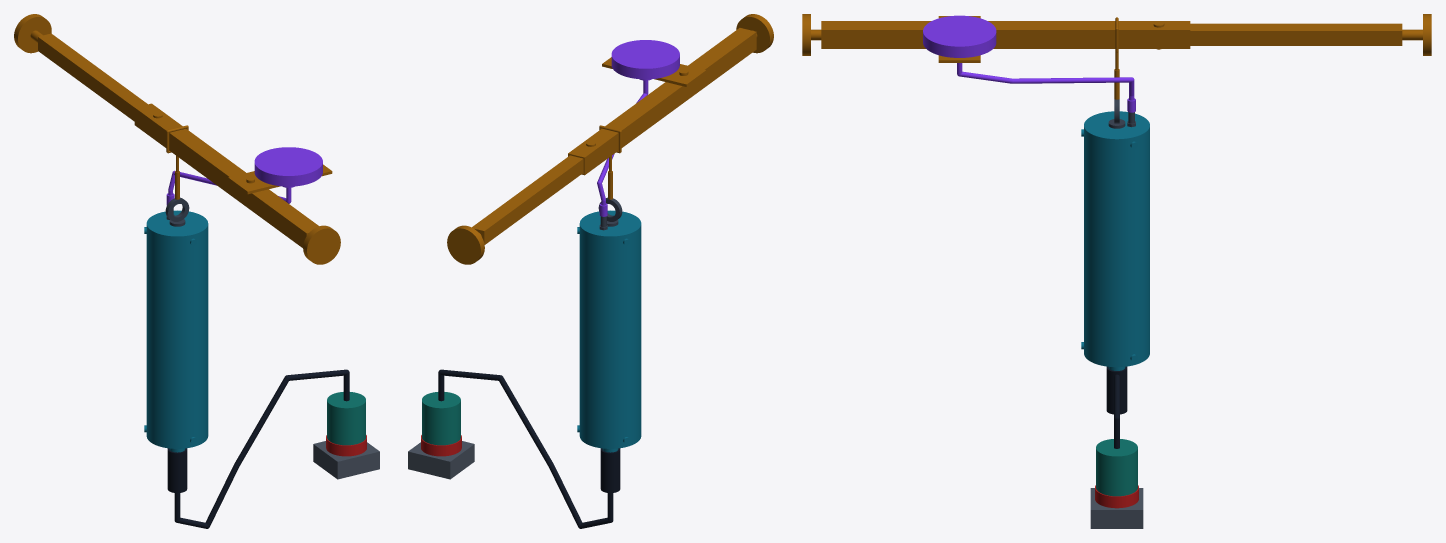
The picture shows the model from 3 angles, left to right: view 1: azimuth 30°, elevation 25°; view 2: azimuth 150°, elevation 25°; view 3: azimuth 270°, elevation 25°; orthographic projection. The views are drawn at different scales.
Parts seen in each view (by area): view 1: Logger housing, IP68, Neck bar hanger and lanyard, Sensor cable, M12 IP68, Flat LoRa antenna, Sensor puck body, potted, Valve spindle cap (existing), Pot magnet, 42 mm, Eye bolt and SMA bulkhead; view 2: Logger housing, IP68, Neck bar hanger and lanyard, Sensor cable, M12 IP68, Flat LoRa antenna, Sensor puck body, potted, Valve spindle cap (existing), Pot magnet, 42 mm; view 3: Logger housing, IP68, Neck bar hanger and lanyard, Flat LoRa antenna, Sensor puck body, potted, Valve spindle cap (existing), Sensor cable, M12 IP68.
Part boxes in pixels (box(x1,y1,x2,y2)): Logger housing, IP68: box(144, 210, 208, 452); Neck bar hanger and lanyard: box(14, 14, 340, 264); Sensor cable, M12 IP68: box(167, 369, 349, 528); Flat LoRa antenna: box(166, 147, 322, 205); Sensor puck body, potted: box(327, 392, 365, 445); Valve spindle cap (existing): box(313, 441, 379, 479); Pot magnet, 42 mm: box(326, 435, 366, 456); Eye bolt and SMA bulkhead: box(165, 197, 189, 226); Logger housing, IP68: box(577, 210, 641, 452); Neck bar hanger and lanyard: box(447, 14, 773, 264); Sensor cable, M12 IP68: box(438, 369, 620, 528); Flat LoRa antenna: box(597, 40, 679, 216); Sensor puck body, potted: box(422, 392, 460, 445); Valve spindle cap (existing): box(408, 441, 474, 479); Pot magnet, 42 mm: box(421, 435, 461, 456); Logger housing, IP68: box(1081, 111, 1149, 370); Neck bar hanger and lanyard: box(802, 14, 1431, 99); Flat LoRa antenna: box(923, 15, 1135, 112); Sensor puck body, potted: box(1096, 439, 1137, 496); Valve spindle cap (existing): box(1090, 488, 1143, 528); Sensor cable, M12 IP68: box(1106, 366, 1127, 448).
Bounding box in the file's own units: 0.2565 × 0.473 × 0.6.
